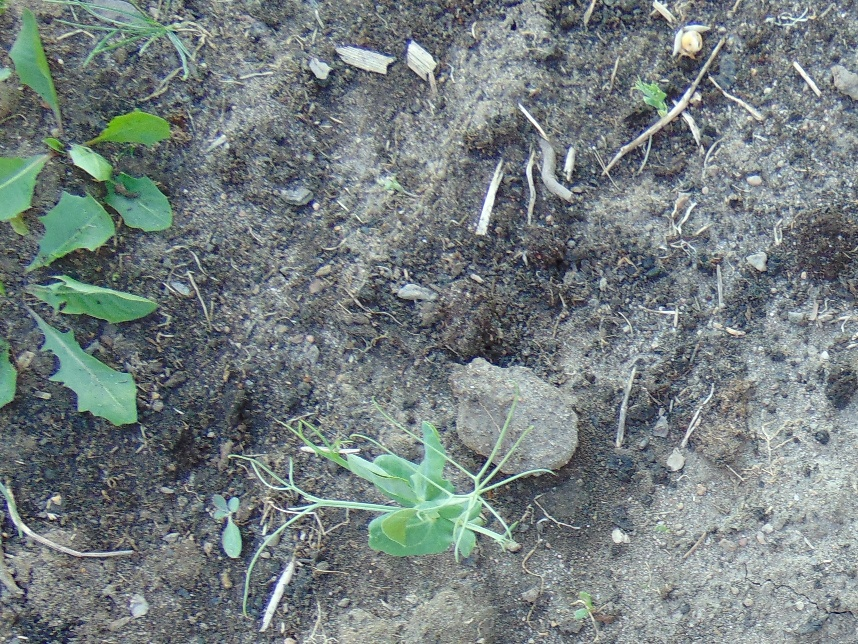crop: (278, 422, 527, 560), (632, 73, 674, 117)
weed: (1, 16, 174, 246), (1, 196, 173, 426), (76, 1, 204, 68), (205, 494, 243, 559)
